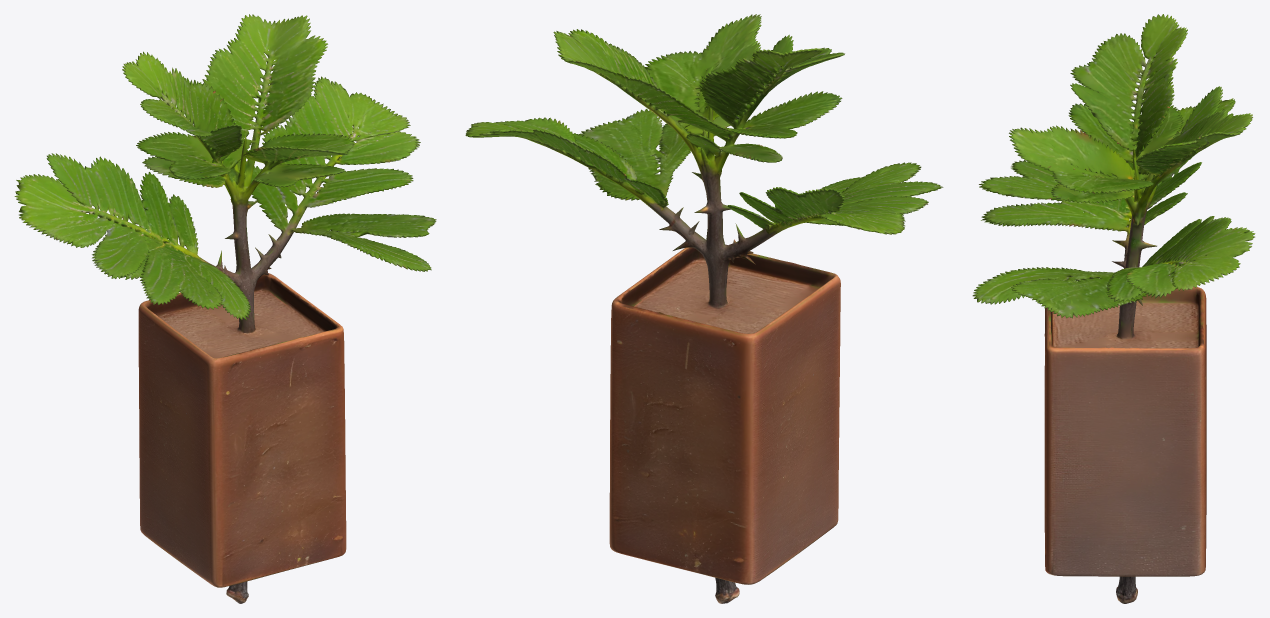
Rendered from ercha.glb.
The picture shows the model from 3 angles, left to right: view 1: azimuth 30°, elevation 25°; view 2: azimuth 150°, elevation 25°; view 3: azimuth 270°, elevation 25°; orthographic projection. The views are drawn at different scales.
Parts seen in each view (by area): view 1: node_0; view 2: node_0; view 3: node_0.
Part boxes in pixels (<box>): node_0: <box>14,14,436,603</box>; node_0: <box>465,14,943,603</box>; node_0: <box>972,14,1255,603</box>.
Size of the model in its own units: 0.8255 by 1.11 by 0.5234.
Materials: 1 (1 with a texture image).
